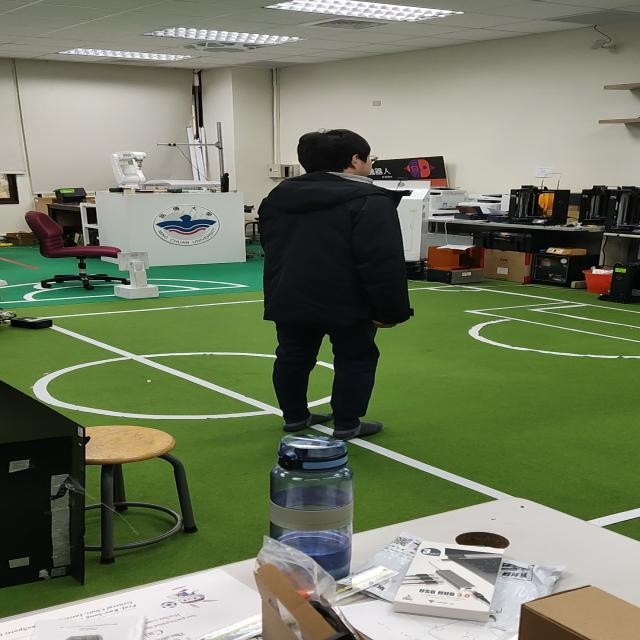person: (255, 128, 411, 433)
